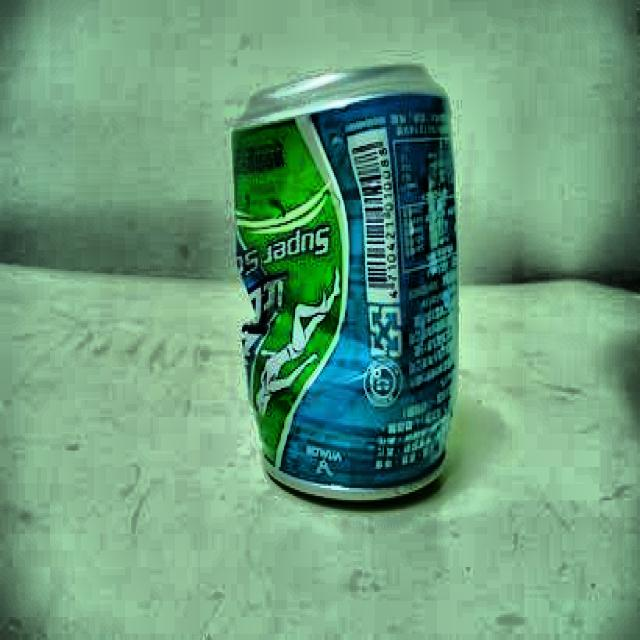can: (222, 49, 464, 516)
